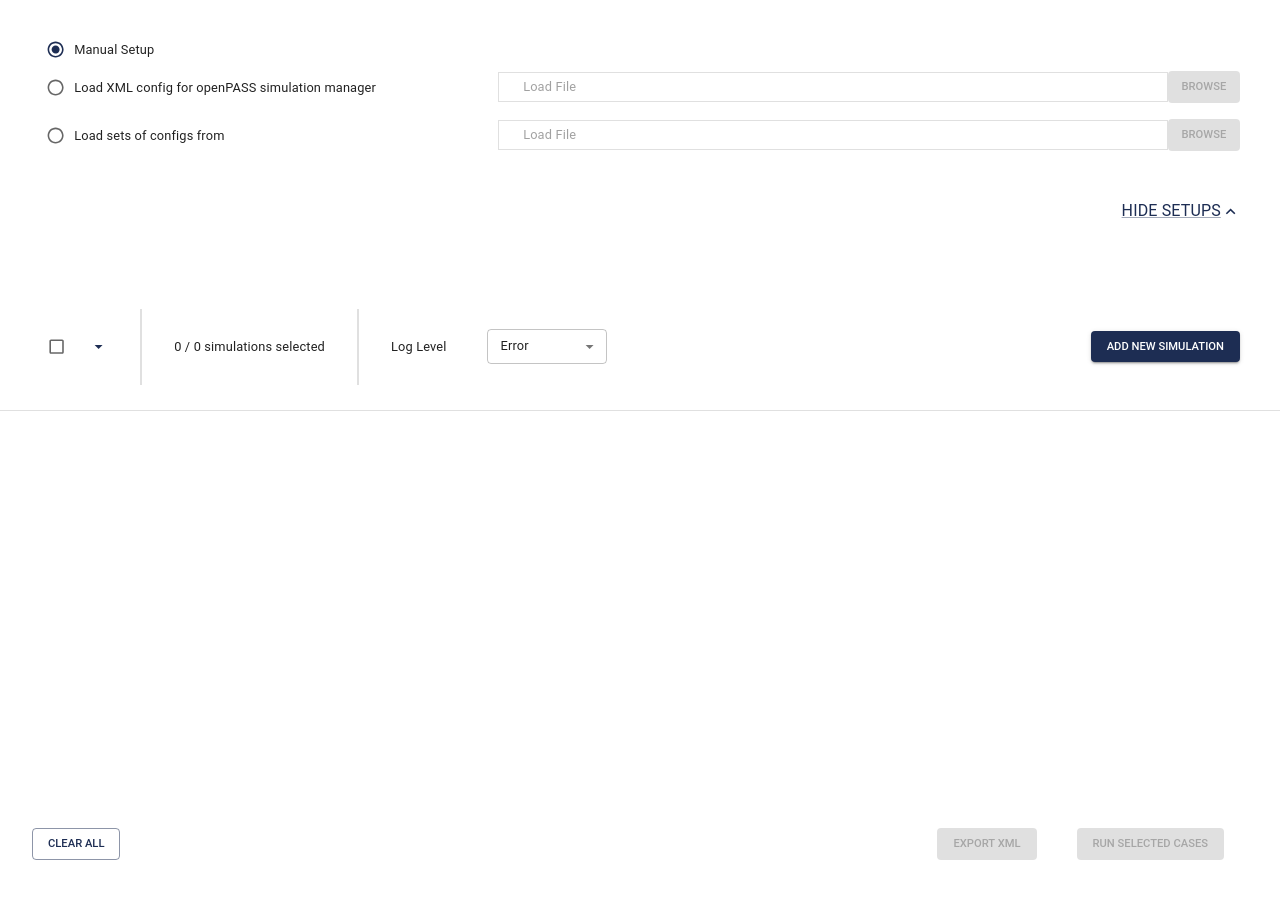
it: Test Suit For Simulation Manager Component › Given some syms are selected button should be enabled
The image size is (1280, 900).
What coordinates should you click on to do the following:
click the button with test id "test-id-add-button"
I would click on:
 (1165, 347)
Its box is 1091,331 -> 1240,362.
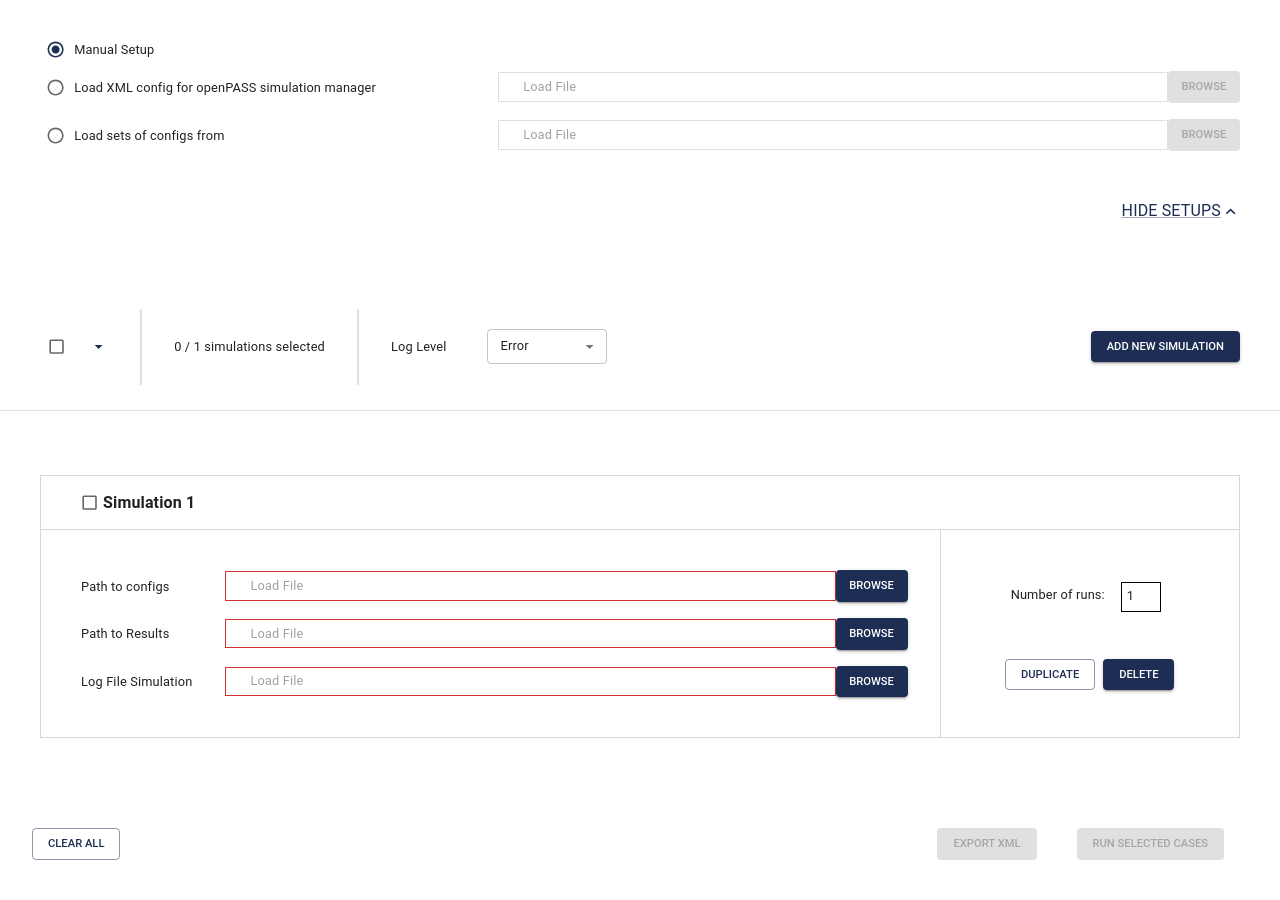
Now the element with test id "test-sim-1" is shown, box 40,475 -> 1240,738
Now the checkbox next to "Simulation 1" is shown
What coordinates should you click on to do the following:
click the checkbox next to "Simulation 1"
I would click on:
 (90, 503)
Its box is 80,493 -> 100,512.
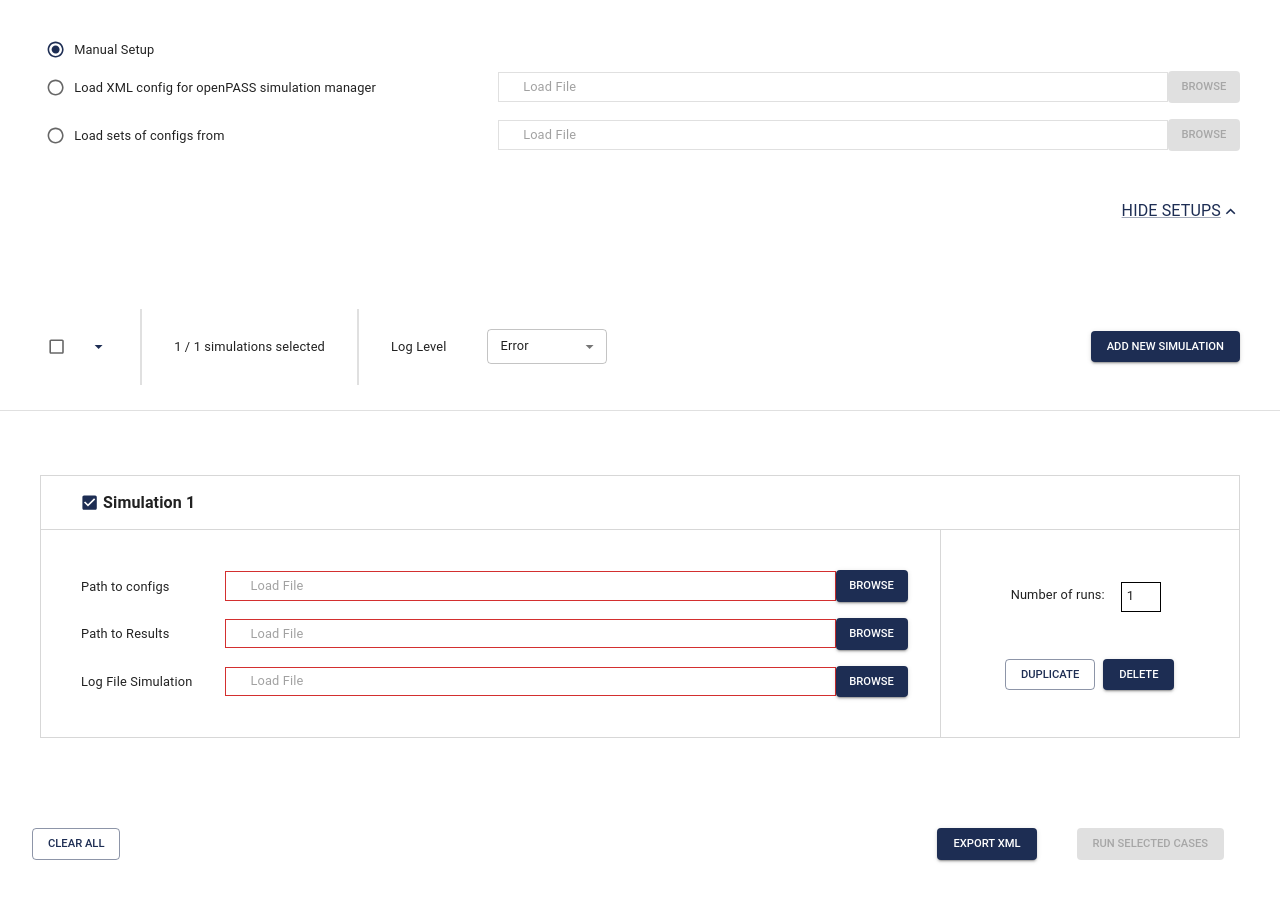
Now the button with test id "test-id-export-button" is enabled, box 937,828 -> 1037,860
